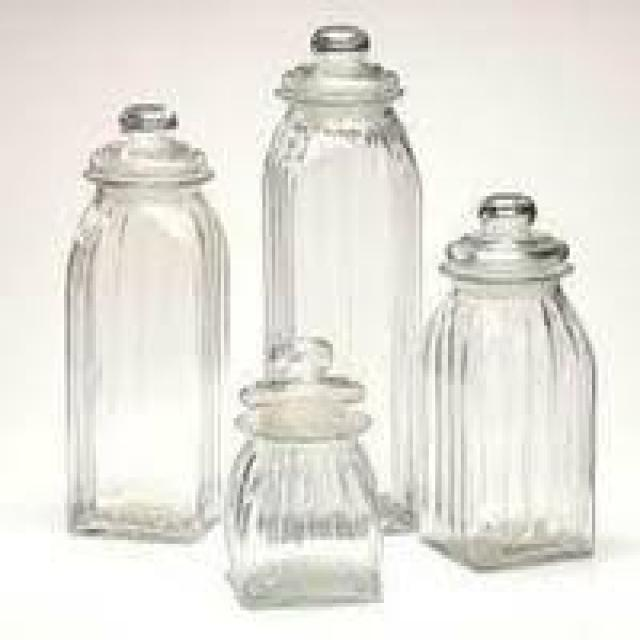glass: (263, 22, 420, 529), (61, 100, 230, 536), (416, 192, 589, 570), (221, 337, 378, 603)
